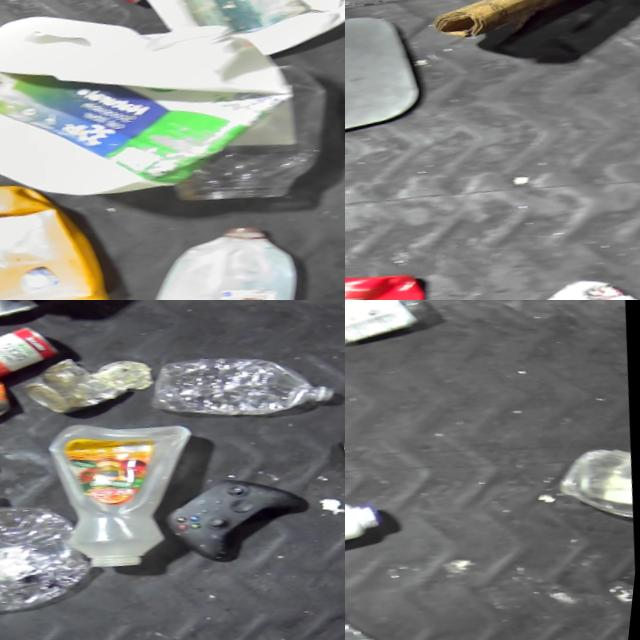can: (23, 343, 167, 419), (0, 310, 75, 392), (549, 263, 640, 300), (0, 369, 41, 436)
milk_jug: (0, 0, 317, 227), (145, 205, 323, 300), (128, 0, 345, 73)
non_white_jug: (0, 161, 139, 300), (345, 253, 437, 300)
plastic_bottle: (152, 330, 345, 433), (0, 468, 115, 631), (345, 300, 445, 356)
